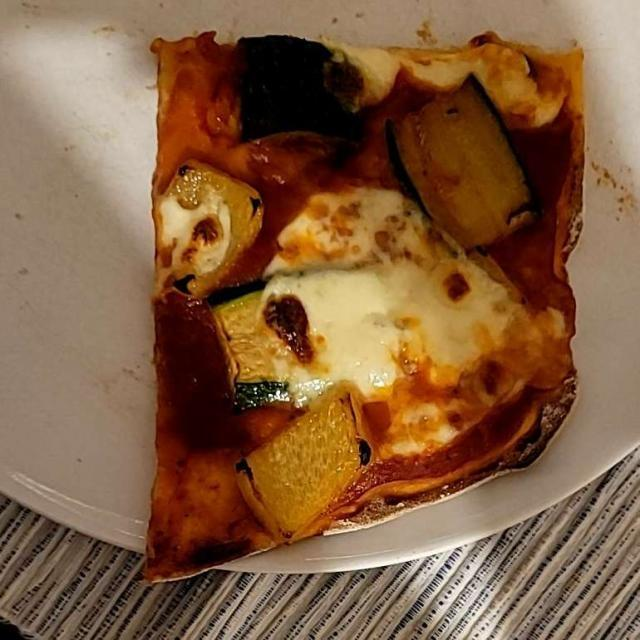pizza: (158, 38, 584, 570)
